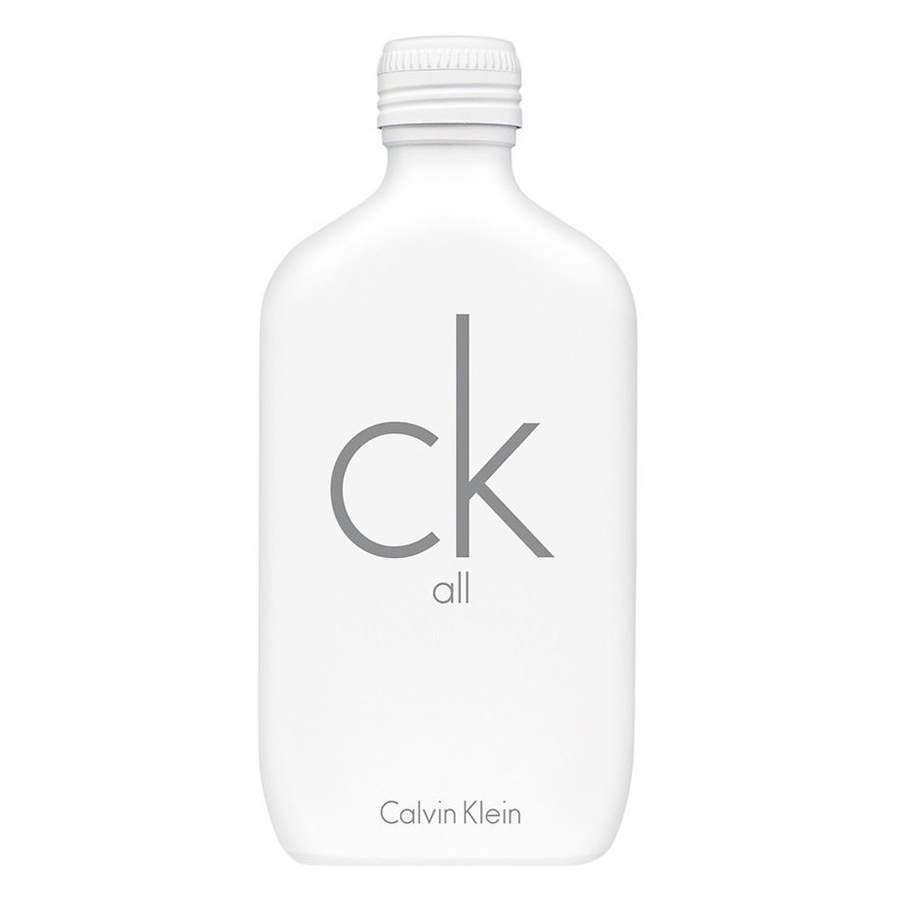Calvin Klein: (320, 308, 559, 562), (376, 789, 529, 833)
